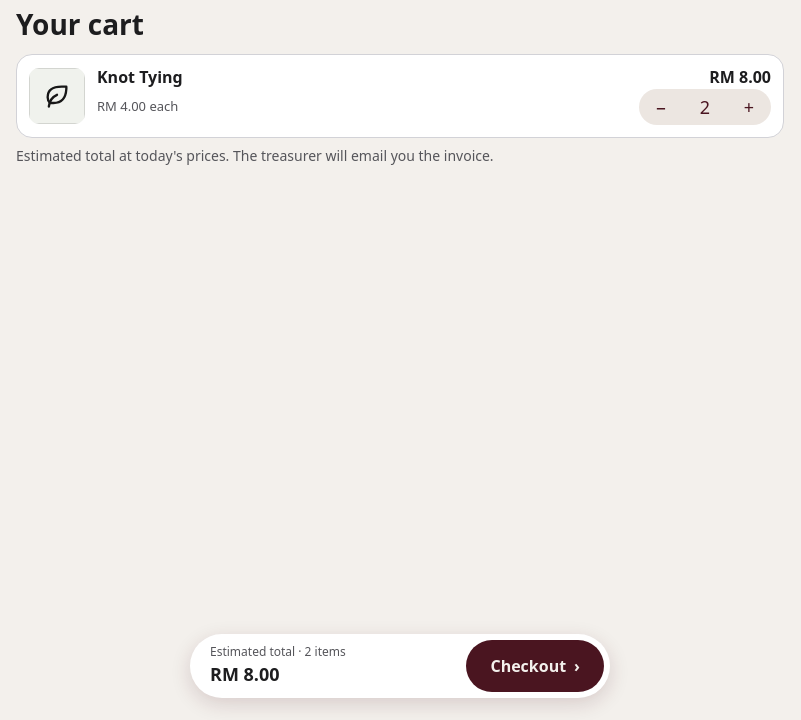
it: CartScreen lines › updates the line and the bar total on a change, and shows the trash at 1
The image size is (801, 720).
Click the button named "One more Knot Tying".
click(749, 107)  # box left=727, top=85, right=771, bottom=129
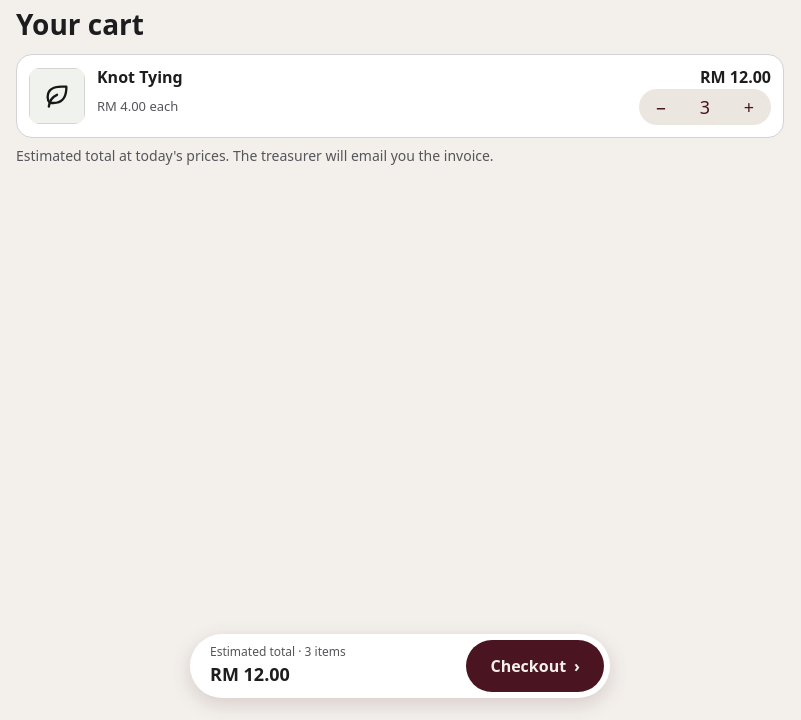
Check: the text "RM 12.00" is shown 2 times, box left=700, top=67, right=771, bottom=87; left=210, top=662, right=290, bottom=686
Check: the field named "Quantity of Knot Tying" holds "3", box left=683, top=85, right=727, bottom=129
Click the button named "One fewer Knot Tying".
click(661, 107)  # box left=639, top=85, right=683, bottom=129
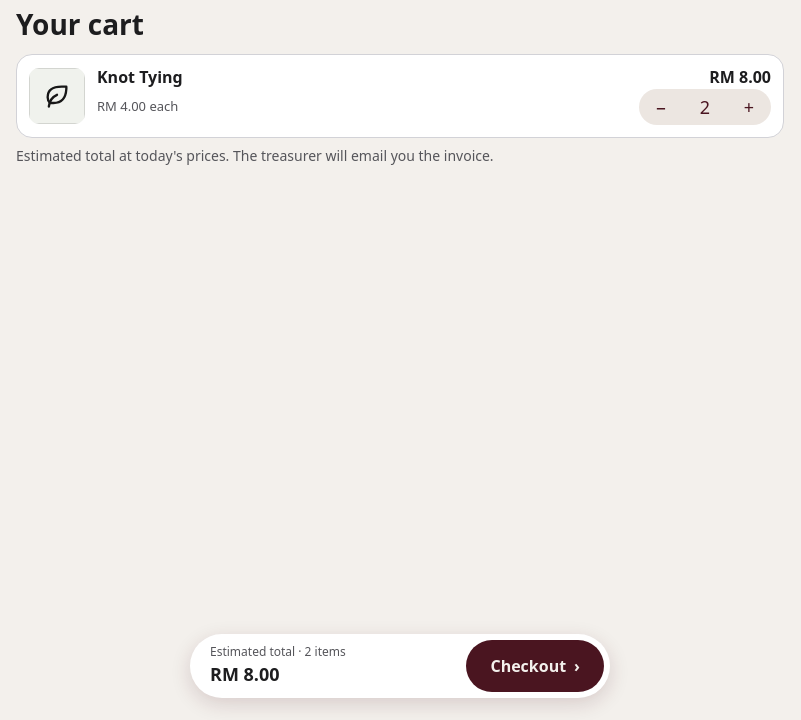
Click the button named "One fewer Knot Tying".
click(661, 107)  # box left=639, top=85, right=683, bottom=129
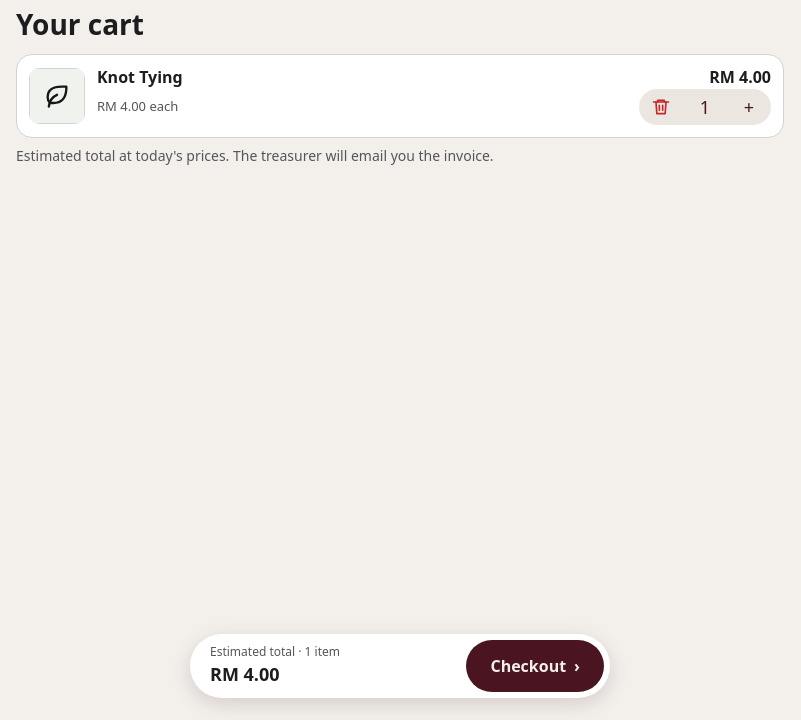
Check: the button named "Remove Knot Tying" is shown, box left=639, top=85, right=683, bottom=129
